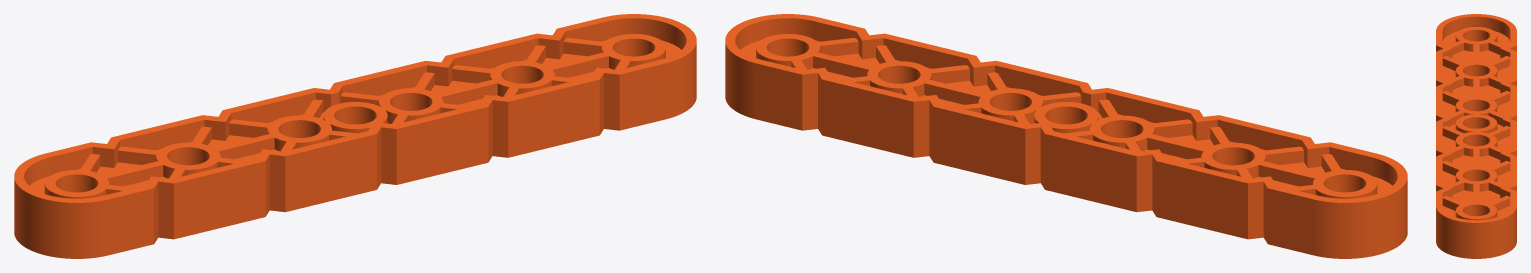
3 views of the same model, side by side, from view 1: azimuth 30°, elevation 25°; view 2: azimuth 150°, elevation 25°; view 3: azimuth 270°, elevation 25° (orthographic). The views are drawn at different scales.
Parts seen in each view (by area): view 1: 228-2500-005; view 2: 228-2500-005; view 3: 228-2500-005.
Boxes of the visible parts, left/top/right/bottom form: 228-2500-005: left=14, top=14, right=696, bottom=258; 228-2500-005: left=725, top=14, right=1407, bottom=258; 228-2500-005: left=1436, top=14, right=1516, bottom=258.
Bounding box in the file's own units: 0.0759 × 0.0061 × 0.0124.
